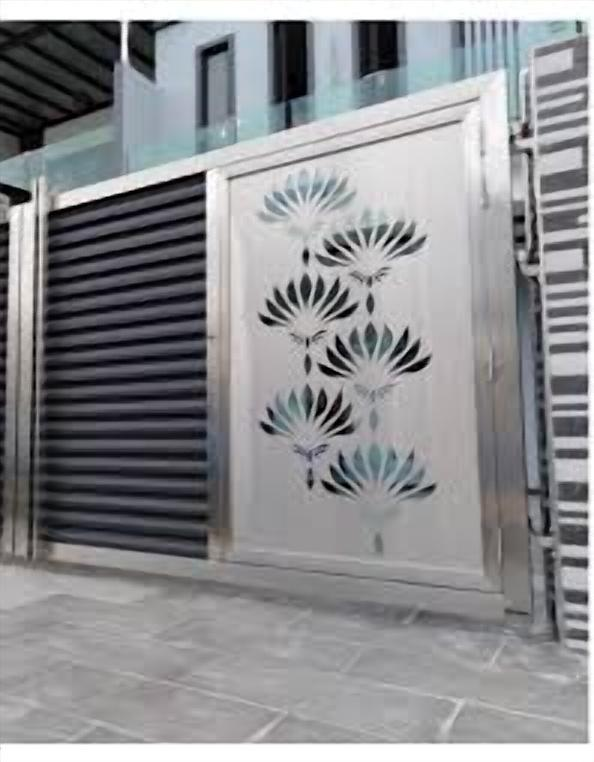Gate: (0, 69, 524, 616)
Window-without-grill: (268, 21, 313, 133), (354, 19, 402, 109), (197, 39, 233, 155)
